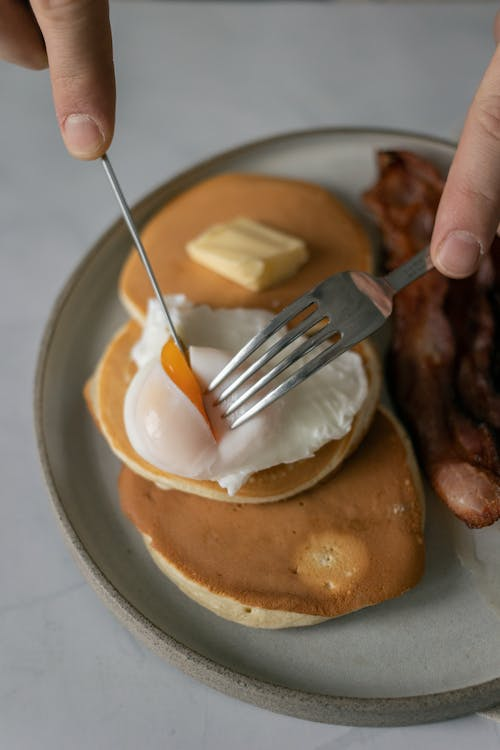knife: (98, 153, 191, 366)
